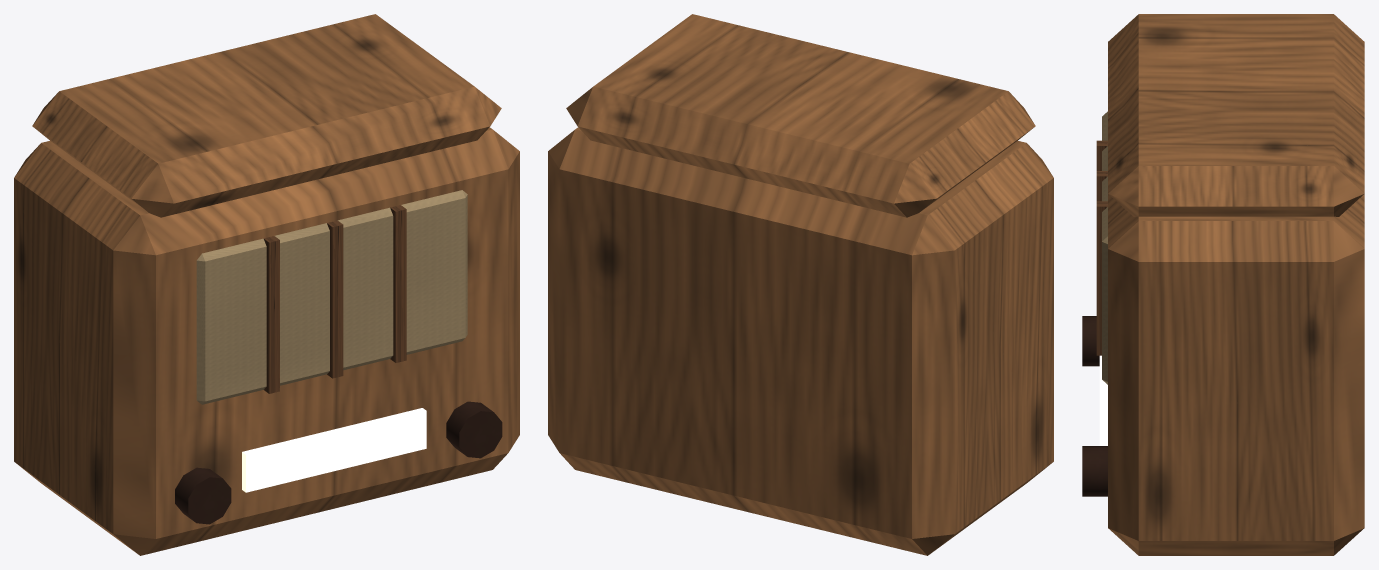
Rendered from OB_Radio_Odbiornik.fbx.
3 views of the same model, side by side, from view 1: azimuth 30°, elevation 25°; view 2: azimuth 150°, elevation 25°; view 3: azimuth 270°, elevation 25° (orthographic).
Parts seen in each view (by area): view 1: Radio, Skala; view 2: Radio; view 3: Radio, Skala.
Boxes of the visible parts, left/top/right/bottom form: Radio: left=14, top=14, right=519, bottom=555; Skala: left=242, top=408, right=426, bottom=492; Radio: left=548, top=14, right=1053, bottom=555; Radio: left=1082, top=14, right=1364, bottom=555; Skala: left=1099, top=355, right=1107, bottom=445.
Bounding box in the file's own units: 0.45 × 0.41 × 0.275.
